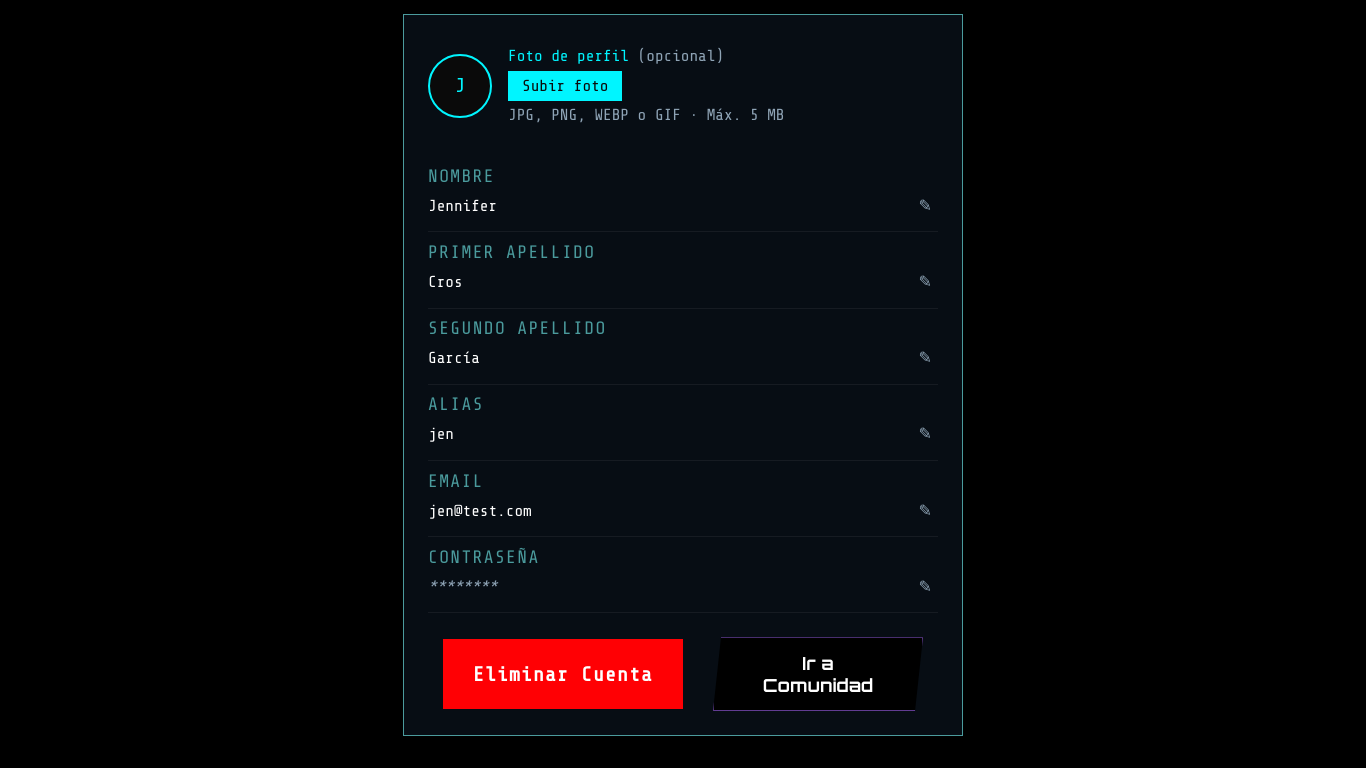
Test: UserProfile — cobertura 100% › muestra toast de error cuando falla la eliminación de cuenta
(page scrolled)
Click the button "Eliminar Cuenta": point(563, 674) [443, 639, 683, 709]
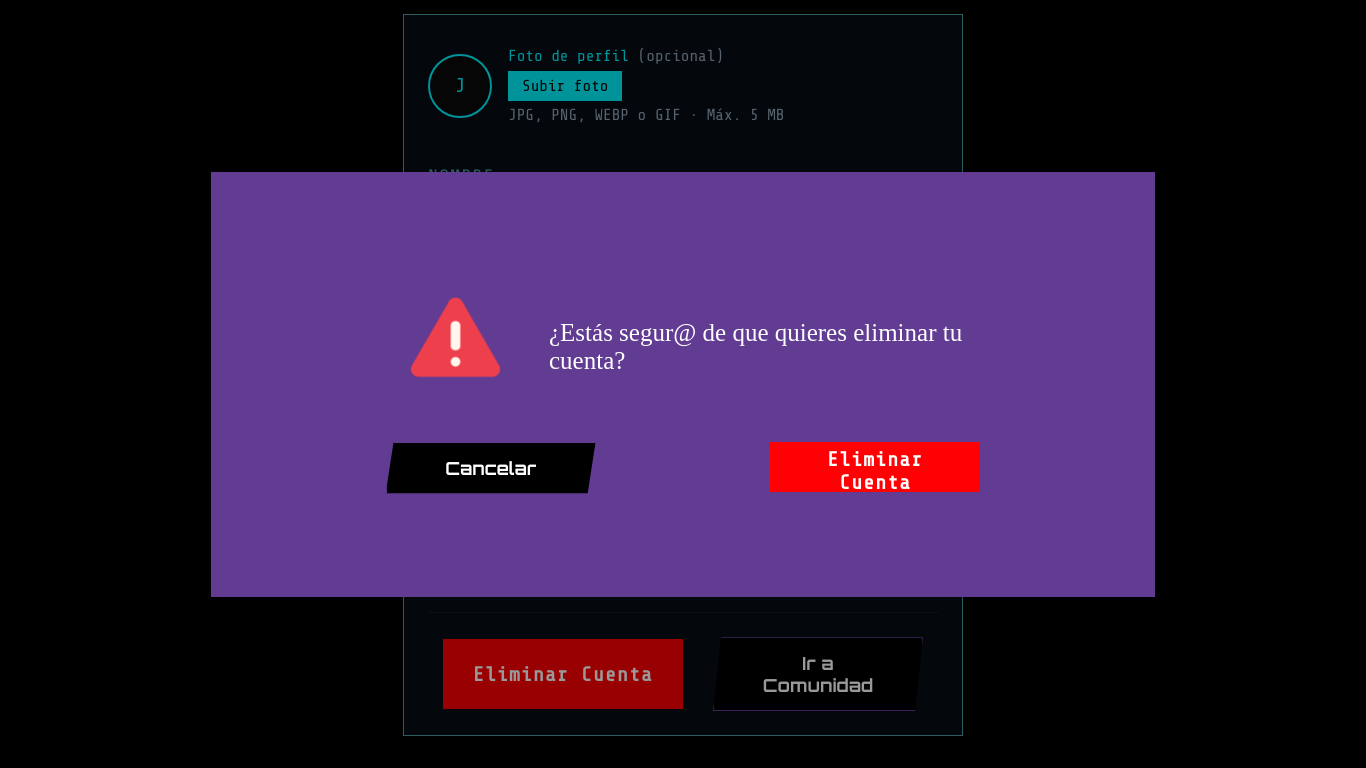
Click the button "Eliminar Cuenta": point(875, 466) [770, 442, 980, 492]
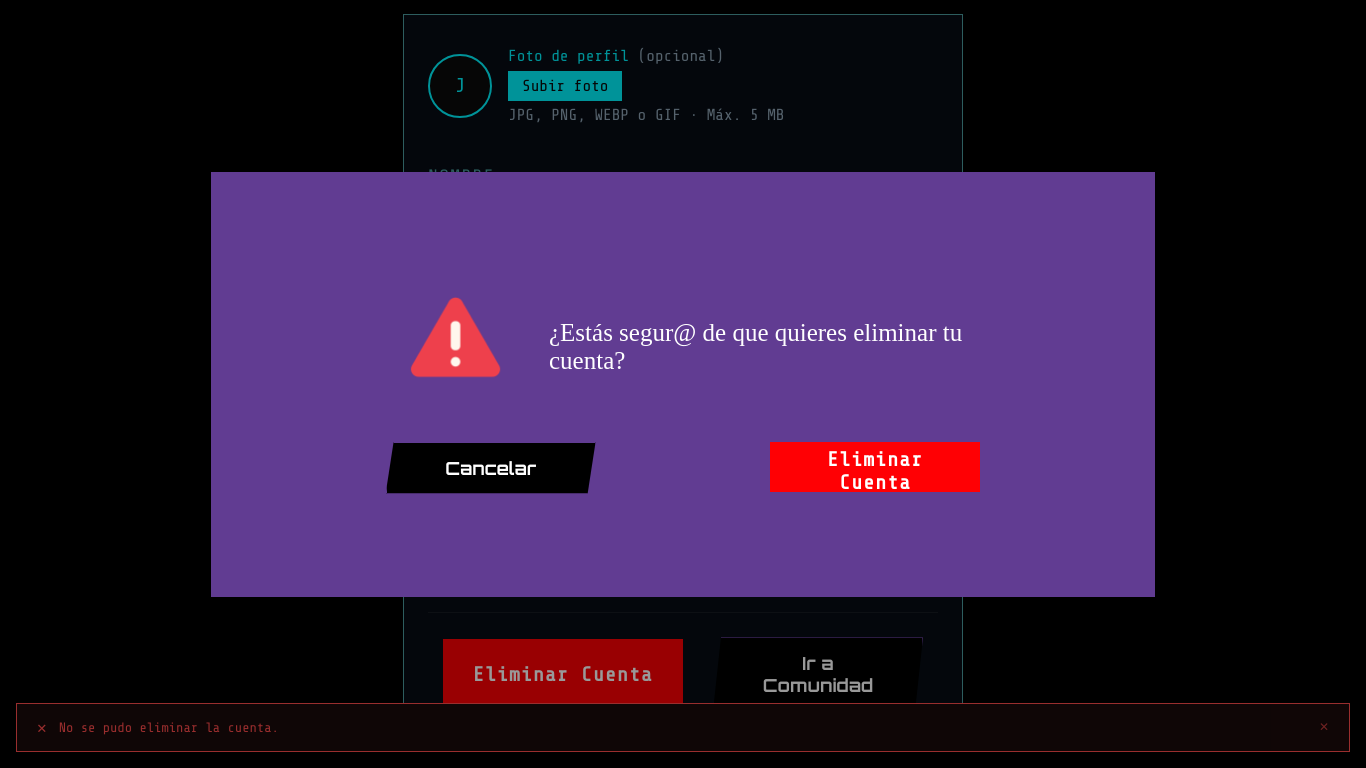
Expected: the text "No se pudo eliminar la cuenta." is shown, [59, 720, 279, 735]
